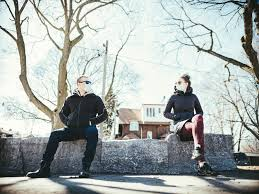Social Distance: (36, 65, 221, 177)
